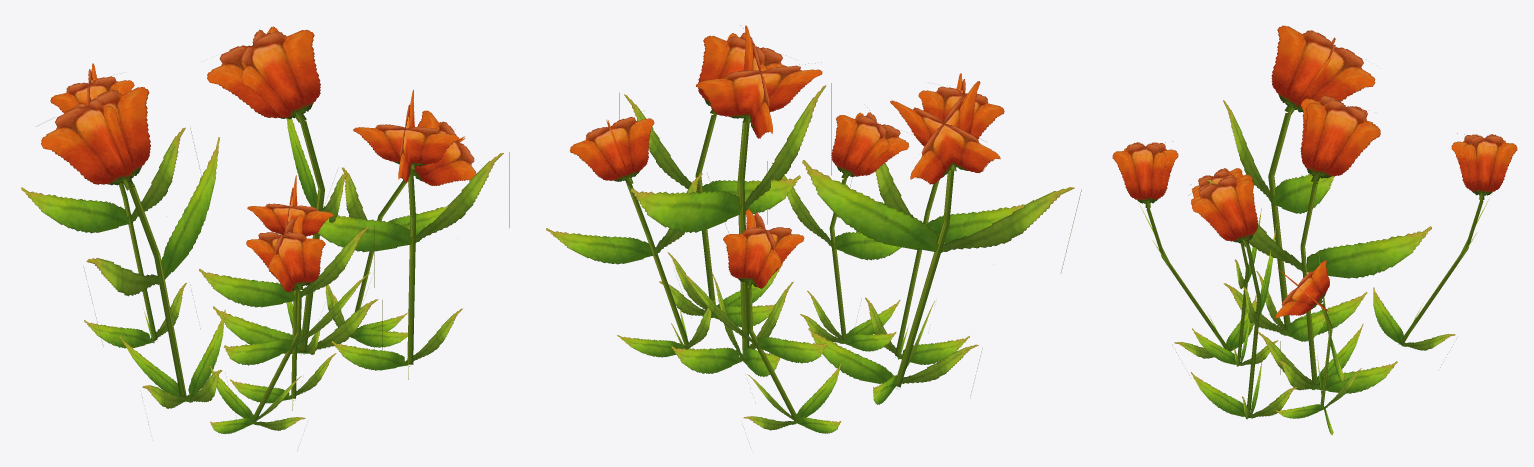
Rendered from obj_macoprfl02-04.glb.
3 renders of one model, left to right at view 1: azimuth 30°, elevation 25°; view 2: azimuth 150°, elevation 25°; view 3: azimuth 270°, elevation 25°, orthographic. The views are drawn at different scales.
Visible parts, largest first — view 1: part_0; view 2: part_0; view 3: part_0.
Part boxes in pixels (<box>): part_0: <box>21,26,509,434</box>; part_0: <box>546,25,1081,433</box>; part_0: <box>1112,25,1517,434</box>.
Bounding box in the file's own units: 0.7442 × 0.5671 × 0.6538.
Materials: 1 (1 with a texture image).
